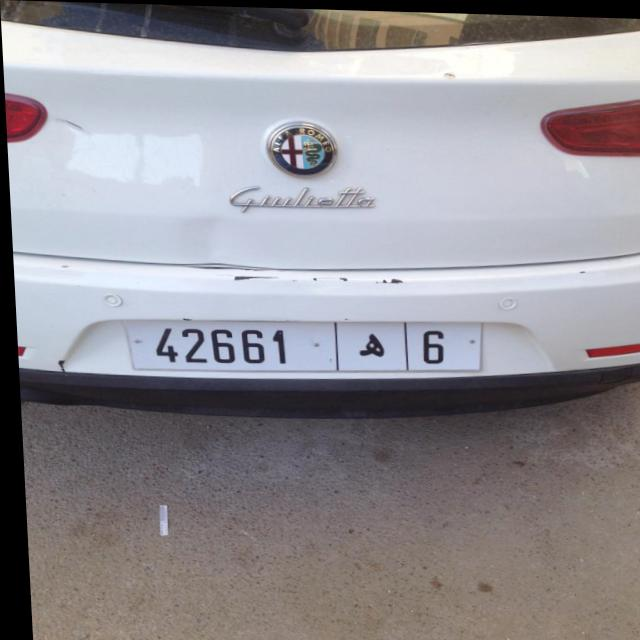License-Plate: (124, 320, 478, 371)
